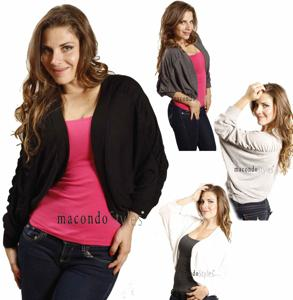S_cardigan sweater: (5, 85, 167, 247), (159, 198, 232, 300), (151, 34, 222, 103)
